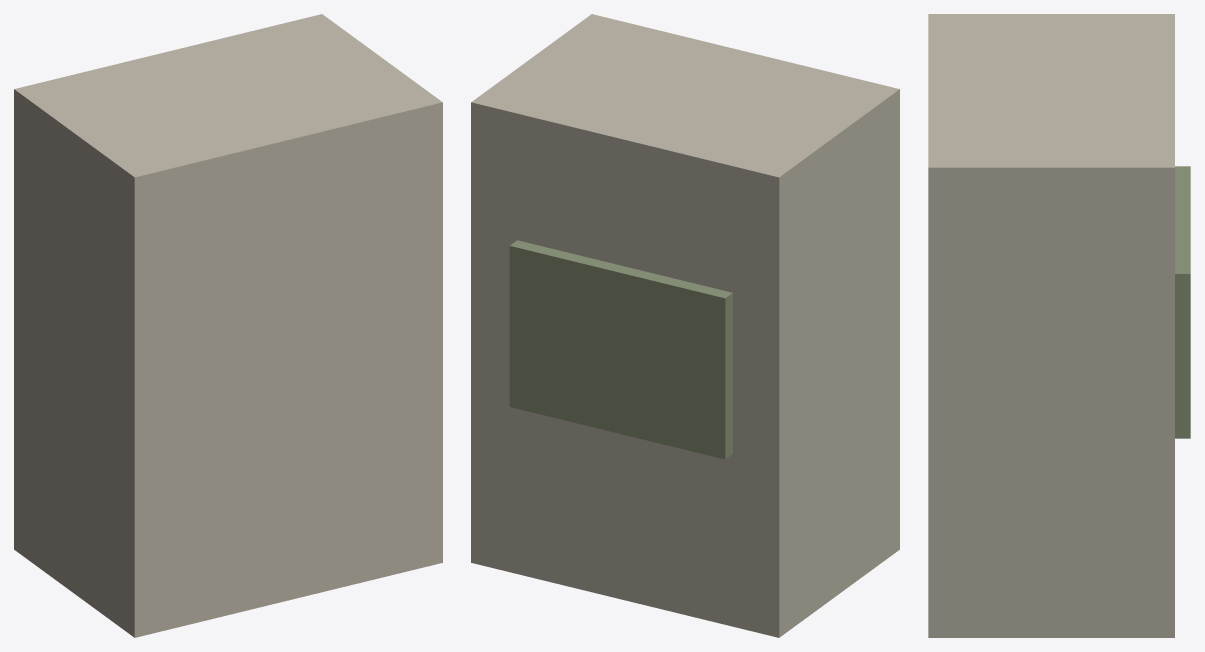
Rendered from fertilizer.glb.
3 views of the same model, side by side, from view 1: azimuth 30°, elevation 25°; view 2: azimuth 150°, elevation 25°; view 3: azimuth 270°, elevation 25° (orthographic). The views are drawn at different scales.
Parts seen in each view (by area): view 1: body; view 2: body; view 3: body.
Boxes of the visible parts, x1,y1,x2,y2 form: body: [14, 14, 442, 637]; body: [471, 14, 899, 637]; body: [928, 14, 1190, 637].
Size of the model in its own units: 0.28 by 0.4 by 0.202.
